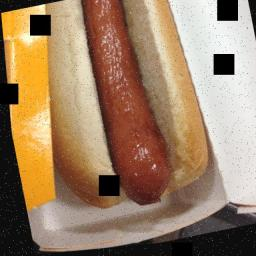hotdog: (80, 0, 183, 218)
